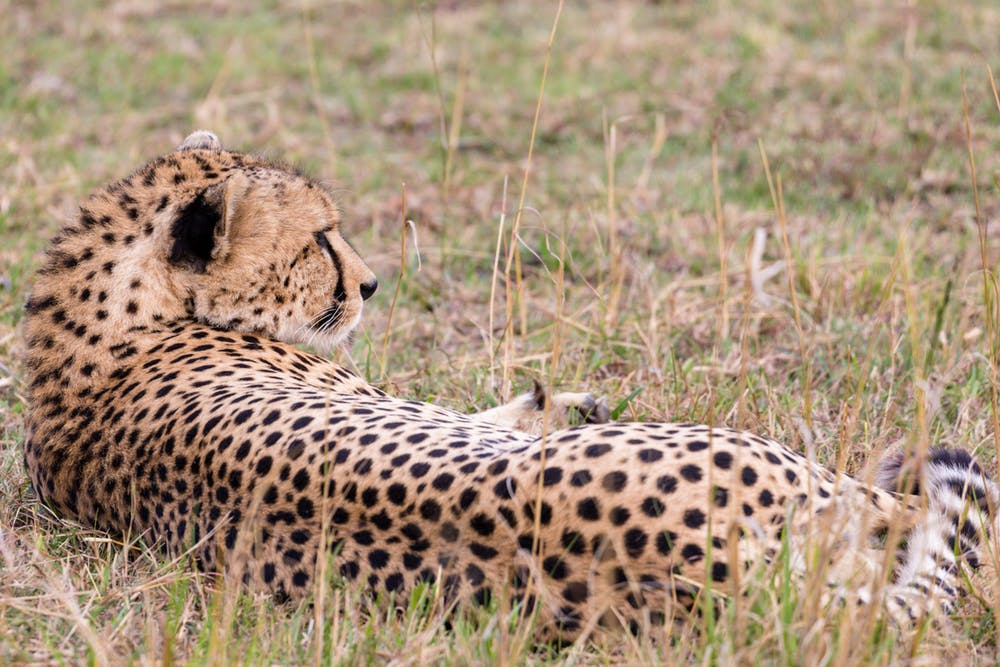cheetah: (119, 120, 393, 357)
